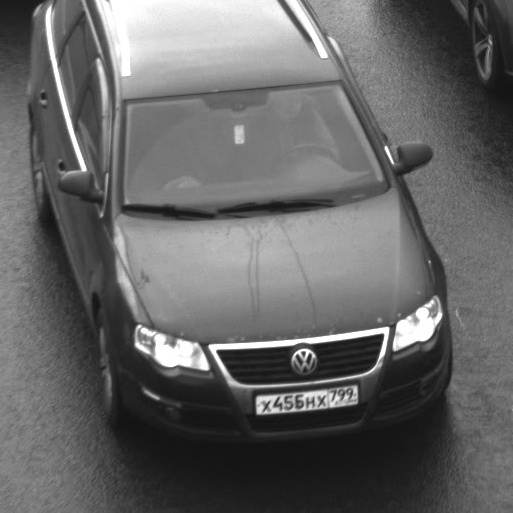plate: (246, 373, 369, 422)
